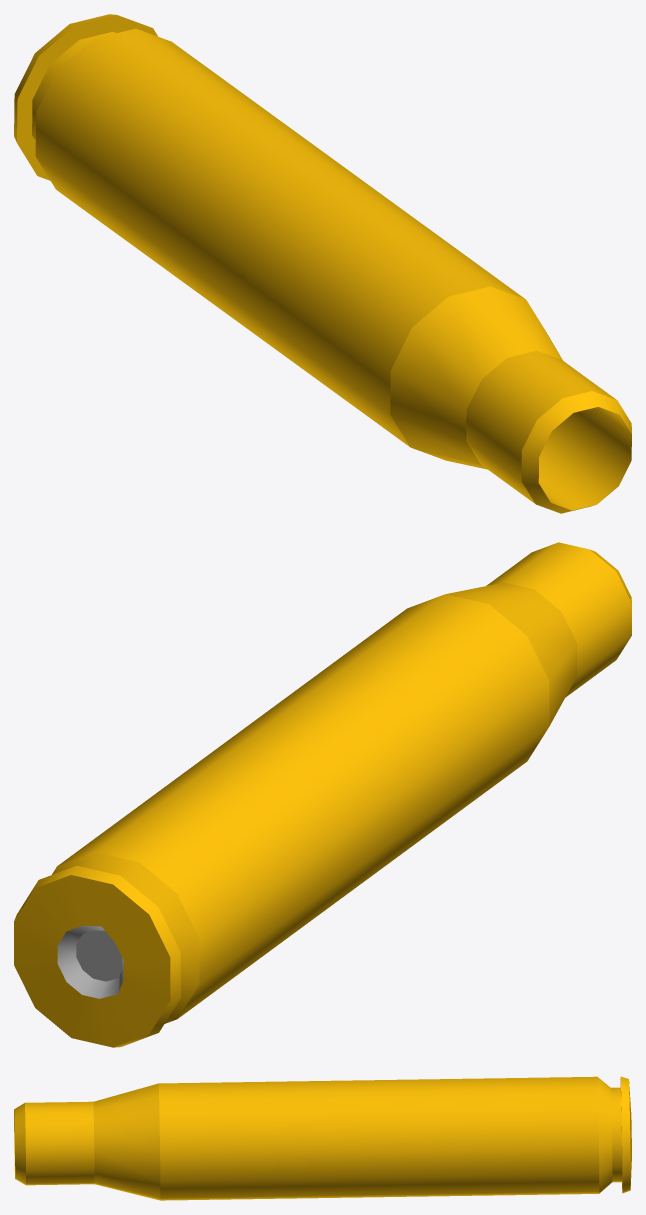
Rendered from DMRViewmodelCasing.fbx.
The picture shows the model from 3 angles, top to bottom: view 1: azimuth 30°, elevation 25°; view 2: azimuth 150°, elevation 25°; view 3: azimuth 270°, elevation 25°; orthographic projection. The views are drawn at different scales.
Parts seen in each view (by area): view 1: Magazine.001; view 2: Magazine.001; view 3: Magazine.001.
Boxes of the visible parts, bbox=[...] form: Magazine.001: bbox=[14, 14, 631, 513]; Magazine.001: bbox=[14, 542, 631, 1047]; Magazine.001: bbox=[14, 1076, 631, 1200].
Bounding box in the file's own units: 2.36 × 2.33 × 12.01.
